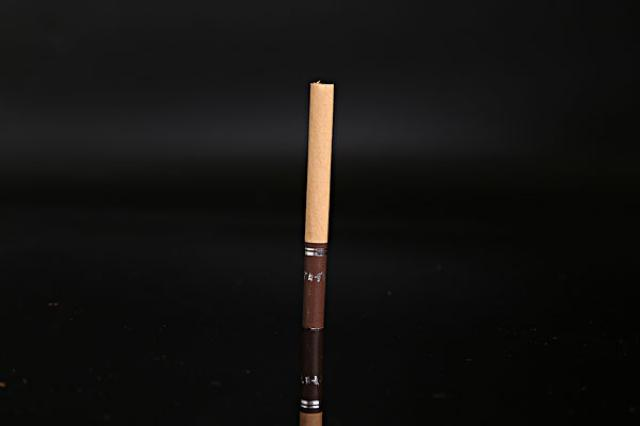Cigarette: (295, 75, 343, 331)
